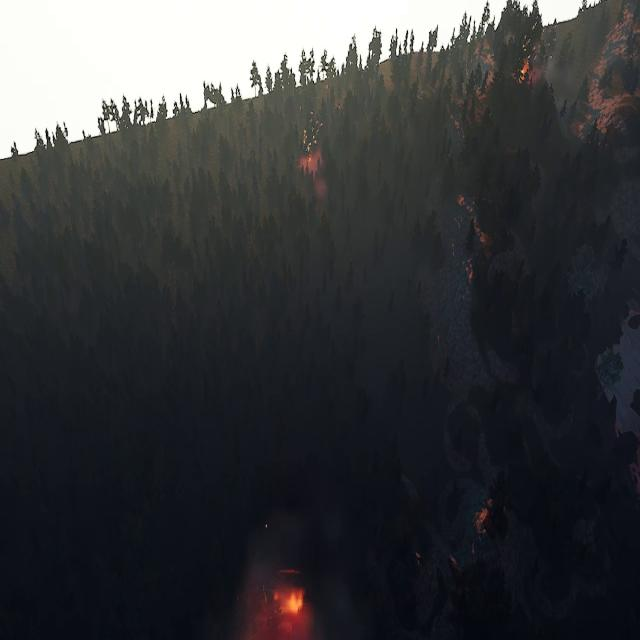fire: (273, 583, 305, 622), (300, 145, 325, 191), (517, 60, 536, 86)
smoke: (226, 552, 320, 638)
